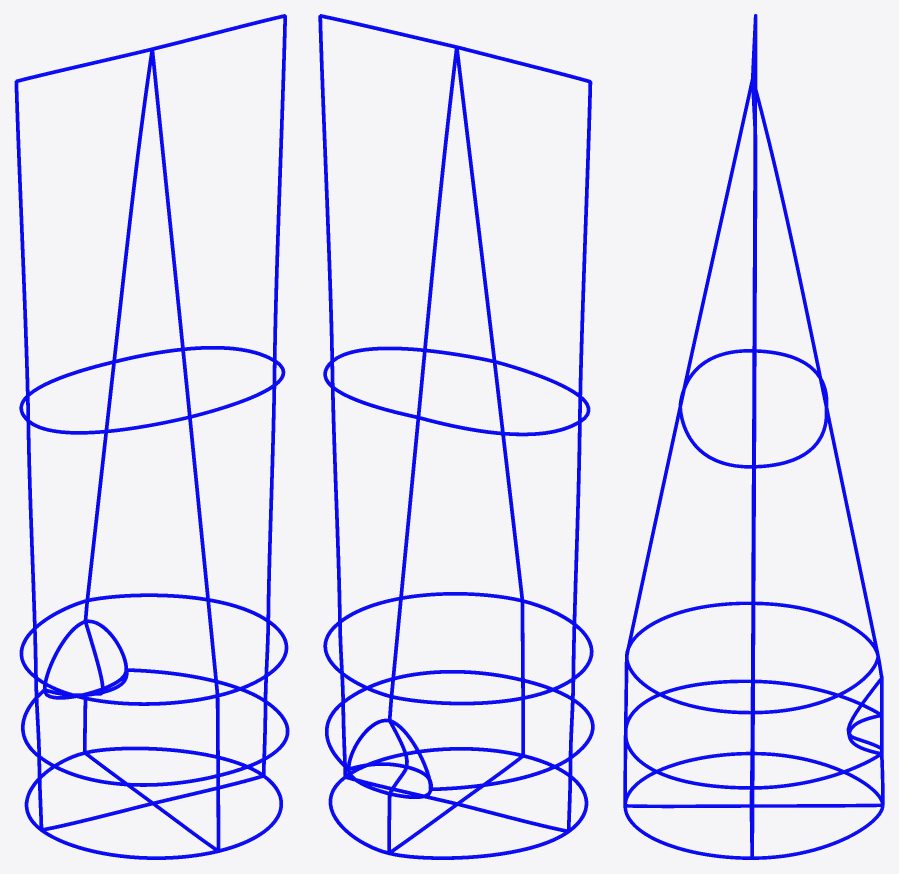
The model's file is t2f_toothpaste.glb.
3 views of the same model, side by side, from view 1: azimuth 30°, elevation 25°; view 2: azimuth 150°, elevation 25°; view 3: azimuth 270°, elevation 25° (orthographic). The views are drawn at different scales.
Visible parts, largest first — view 1: t2f_toothpaste; view 2: t2f_toothpaste; view 3: t2f_toothpaste.
Boxes of the visible parts, x1,y1,x2,y2 form: t2f_toothpaste: [14, 14, 289, 859]; t2f_toothpaste: [318, 14, 594, 859]; t2f_toothpaste: [623, 14, 884, 859].
Size of the model in its own units: 0.3387 by 0.9012 by 0.2919.
